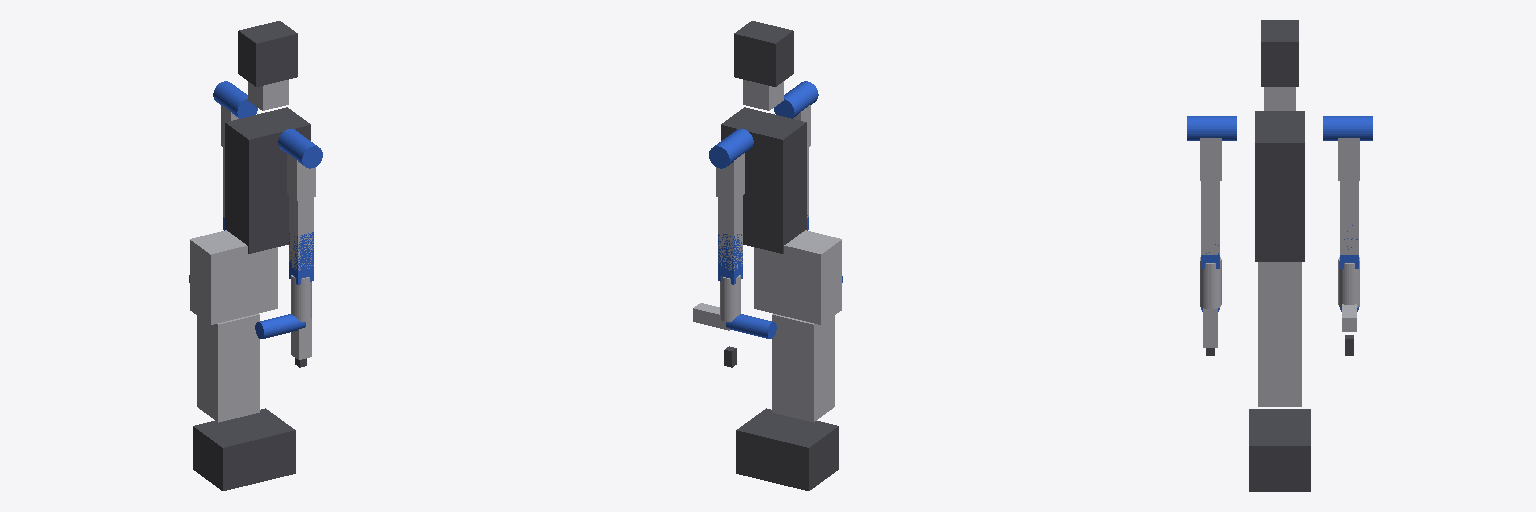
The robot description file, URDF, robot "mega_robot_1st_urdf":
<?xml version="1.0" encoding="utf-8"?>
<robot name="mega_robot_1st_urdf">
  <material name="dark_grey">
    <color rgba="0.35 0.35 0.38 1.0" />
  </material>
  <material name="light_grey">
    <color rgba="0.72 0.72 0.75 1.0" />
  </material>
  <material name="blue">
    <color rgba="0.25 0.45 0.85 1.0" />
  </material>

  <link name="base_link">
    <visual>
      <geometry>
        <box size="0.28 0.20 0.16" />
      </geometry>
      <material name="dark_grey" />
    </visual>
    <collision>
      <geometry>
        <box size="0.28 0.20 0.16" />
      </geometry>
    </collision>
  </link>

  <link name="trunk1">
    <visual>
      <origin xyz="0.06 0.0 0.18" rpy="0 0 0" />
      <geometry>
        <box size="0.16 0.14 0.36" />
      </geometry>
      <material name="light_grey" />
    </visual>
    <collision>
      <origin xyz="0.06 0.0 0.18" rpy="0 0 0" />
      <geometry>
        <box size="0.16 0.14 0.36" />
      </geometry>
    </collision>
  </link>
  <joint name="trunk_J1" type="revolute">
    <origin xyz="0 0 0.161000000045019" rpy="0 0 3.14159265358979" />
    <parent link="base_link" />
    <child link="trunk1" />
    <axis xyz="0 0 1" />
    <limit lower="-3.1416" upper="3.1416" effort="0" velocity="2.0" />
  </joint>

  <link name="trunk2">
    <visual>
      <origin xyz="-0.08 -0.08 0.0" rpy="0 0 0" />
      <geometry>
        <box size="0.26 0.26 0.14" />
      </geometry>
      <material name="light_grey" />
    </visual>
    <collision>
      <origin xyz="-0.08 -0.08 0.0" rpy="0 0 0" />
      <geometry>
        <box size="0.26 0.26 0.14" />
      </geometry>
    </collision>
  </link>
  <joint name="trunk_J2" type="revolute">
    <origin xyz="0.119999999999998 0 0.415" rpy="-1.5707963267949 0 0" />
    <parent link="trunk1" />
    <child link="trunk2" />
    <axis xyz="0 0 -1" />
    <limit lower="-3.1416" upper="3.1416" effort="0" velocity="2.0" />
  </joint>

  <link name="trunk3">
    <visual>
      <origin xyz="0.0 -0.18 0.0" rpy="0 0 0" />
      <geometry>
        <box size="0.24 0.42 0.16" />
      </geometry>
      <material name="dark_grey" />
    </visual>
    <collision>
      <origin xyz="0.0 -0.18 0.0" rpy="0 0 0" />
      <geometry>
        <box size="0.24 0.42 0.16" />
      </geometry>
    </collision>
  </link>
  <joint name="trunk_J3" type="revolute">
    <origin xyz="-0.212132034355965 -0.212132034355963 0" rpy="0 0 0" />
    <parent link="trunk2" />
    <child link="trunk3" />
    <axis xyz="0 0 1" />
    <limit lower="-3.1416" upper="3.1416" effort="0" velocity="2.0" />
  </joint>

  <link name="Right_link1">
    <visual>
      <origin xyz="0.0 0.0 0.08" rpy="0 0 0" />
      <geometry>
        <cylinder length="0.16" radius="0.04" />
      </geometry>
      <material name="blue" />
    </visual>
    <collision>
      <origin xyz="0.0 0.0 0.08" rpy="0 0 0" />
      <geometry>
        <cylinder length="0.16" radius="0.04" />
      </geometry>
    </collision>
  </link>
  <joint name="Right_J1" type="revolute">
    <origin xyz="0 -0.384999999999999 0.136199999954927" rpy="0 0 0" />
    <parent link="trunk3" />
    <child link="Right_link1" />
    <axis xyz="0 0 1" />
    <limit lower="-2.8797" upper="2.8797" effort="0" velocity="2.0" />
  </joint>

  <link name="Right_link2">
    <visual>
      <origin xyz="0.0 -0.08 0.0" rpy="0 0 0" />
      <geometry>
        <box size="0.07 0.18 0.07" />
      </geometry>
      <material name="light_grey" />
    </visual>
    <collision>
      <origin xyz="0.0 -0.08 0.0" rpy="0 0 0" />
      <geometry>
        <box size="0.07 0.18 0.07" />
      </geometry>
    </collision>
  </link>
  <joint name="Right_J2" type="revolute">
    <origin xyz="0 0 0.0846" rpy="3.14159265358979 1.5707963267949 0" />
    <parent link="Right_link1" />
    <child link="Right_link2" />
    <axis xyz="0 0 1" />
    <limit lower="-1.9198" upper="0.08" effort="0" velocity="2.0" />
  </joint>

  <link name="Right_link3">
    <visual>
      <origin xyz="0.0 0.0 -0.145" rpy="0 0 0" />
      <geometry>
        <box size="0.06 0.06 0.29" />
      </geometry>
      <material name="light_grey" />
    </visual>
    <collision>
      <origin xyz="0.0 0.0 -0.145" rpy="0 0 0" />
      <geometry>
        <box size="0.06 0.06 0.29" />
      </geometry>
    </collision>
  </link>
  <joint name="Right_J3" type="revolute">
    <origin xyz="0 -0.141000000042135 0" rpy="-1.5707963267949 0 0" />
    <parent link="Right_link2" />
    <child link="Right_link3" />
    <axis xyz="0 0 -1" />
    <limit lower="-2.8797" upper="2.8797" effort="0" velocity="2.0" />
  </joint>

  <link name="Right_link4">
    <visual>
      <origin xyz="0.0 0.07 0.0" rpy="0 0 0" />
      <geometry>
        <box size="0.06 0.18 0.06" />
      </geometry>
      <material name="blue" />
    </visual>
    <collision>
      <origin xyz="0.0 0.07 0.0" rpy="0 0 0" />
      <geometry>
        <box size="0.06 0.18 0.06" />
      </geometry>
    </collision>
  </link>
  <joint name="Right_J4" type="revolute">
    <origin xyz="0 0 -0.178999999999999" rpy="-1.5707963267949 0 -1.5707963267949" />
    <parent link="Right_link3" />
    <child link="Right_link4" />
    <axis xyz="0 0 -1" />
    <limit lower="-0.8753" upper="2.0943" effort="0" velocity="2.0" />
  </joint>

  <link name="Right_link5">
    <visual>
      <origin xyz="0.0 0.0 0.08" rpy="0 0 0" />
      <geometry>
        <cylinder length="0.16" radius="0.035" />
      </geometry>
      <material name="light_grey" />
    </visual>
    <collision>
      <origin xyz="0.0 0.0 0.08" rpy="0 0 0" />
      <geometry>
        <cylinder length="0.16" radius="0.035" />
      </geometry>
    </collision>
  </link>
  <joint name="Right_J5" type="revolute">
    <origin xyz="0 0.140000235405189 0" rpy="-1.5707963267949 0 0" />
    <parent link="Right_link4" />
    <child link="Right_link5" />
    <axis xyz="0 0 1" />
    <limit lower="-2.8797" upper="2.8797" effort="0" velocity="2.0" />
  </joint>

  <link name="Right_link6">
    <visual>
      <origin xyz="0.0 0.0 0.08" rpy="0 0 0" />
      <geometry>
        <cylinder length="0.16" radius="0.03" />
      </geometry>
      <material name="blue" />
    </visual>
    <collision>
      <origin xyz="0.0 0.0 0.08" rpy="0 0 0" />
      <geometry>
        <cylinder length="0.16" radius="0.03" />
      </geometry>
    </collision>
  </link>
  <joint name="Right_J6" type="revolute">
    <origin xyz="0 0 0.17" rpy="-1.5707963267949 0 1.5707963267949" />
    <parent link="Right_link5" />
    <child link="Right_link6" />
    <axis xyz="0 0 -1" />
    <limit lower="-0.6981" upper="0.6981" effort="0" velocity="2.0" />
  </joint>

  <link name="Right_link7">
    <visual>
      <origin xyz="0.06 0.0 0.0" rpy="0 0 0" />
      <geometry>
        <box size="0.14 0.05 0.05" />
      </geometry>
      <material name="light_grey" />
    </visual>
    <collision>
      <origin xyz="0.06 0.0 0.0" rpy="0 0 0" />
      <geometry>
        <box size="0.14 0.05 0.05" />
      </geometry>
    </collision>
  </link>
  <joint name="Right_J7" type="revolute">
    <origin xyz="0 0 0" rpy="1.5707963267949 0 -1.5707963267949" />
    <parent link="Right_link6" />
    <child link="Right_link7" />
    <axis xyz="0 0 -1" />
    <limit lower="-0.6981" upper="0.6981" effort="0" velocity="2.0" />
  </joint>

  <link name="rhand">
    <visual>
      <origin xyz="0.03 0 0" rpy="0 0 0" />
      <geometry>
        <box size="0.06 0.03 0.03" />
      </geometry>
      <material name="dark_grey" />
    </visual>
    <collision>
      <origin xyz="0.03 0 0" rpy="0 0 0" />
      <geometry>
        <box size="0.06 0.03 0.03" />
      </geometry>
    </collision>
  </link>
  <joint name="rfix_joint" type="fixed">
    <origin xyz="0.1041 0 0" rpy="0 0 0" />
    <parent link="Right_link7" />
    <child link="rhand" />
  </joint>

  <link name="Left_link1">
    <visual>
      <origin xyz="0.0 0.0 0.08" rpy="0 0 0" />
      <geometry>
        <cylinder length="0.16" radius="0.04" />
      </geometry>
      <material name="blue" />
    </visual>
    <collision>
      <origin xyz="0.0 0.0 0.08" rpy="0 0 0" />
      <geometry>
        <cylinder length="0.16" radius="0.04" />
      </geometry>
    </collision>
  </link>
  <joint name="Left_J1" type="revolute">
    <origin xyz="0 -0.384999999999999 -0.136199999954923" rpy="-3.14159265358979 0 0" />
    <parent link="trunk3" />
    <child link="Left_link1" />
    <axis xyz="0 0 1" />
    <limit lower="-2.8797" upper="2.8797" effort="0" velocity="2.0" />
  </joint>

  <link name="Left_link2">
    <visual>
      <origin xyz="0.0 0.08 0.0" rpy="0 0 0" />
      <geometry>
        <box size="0.07 0.18 0.07" />
      </geometry>
      <material name="light_grey" />
    </visual>
    <collision>
      <origin xyz="0.0 0.08 0.0" rpy="0 0 0" />
      <geometry>
        <box size="0.07 0.18 0.07" />
      </geometry>
    </collision>
  </link>
  <joint name="Left_J2" type="revolute">
    <origin xyz="0 0 0.0846000000000572" rpy="3.14159265358979 1.5707963267949 0" />
    <parent link="Left_link1" />
    <child link="Left_link2" />
    <axis xyz="0 0 1" />
    <limit lower="-0.08" upper="1.9198" effort="0" velocity="2.0" />
  </joint>

  <link name="Left_link3">
    <visual>
      <origin xyz="0.0 0.0 -0.145" rpy="0 0 0" />
      <geometry>
        <box size="0.06 0.06 0.29" />
      </geometry>
      <material name="light_grey" />
    </visual>
    <collision>
      <origin xyz="0.0 0.0 -0.145" rpy="0 0 0" />
      <geometry>
        <box size="0.06 0.06 0.29" />
      </geometry>
    </collision>
  </link>
  <joint name="Left_J3" type="revolute">
    <origin xyz="0 0.141000000042135 0" rpy="-1.5707963267949 0 3.14159265358979" />
    <parent link="Left_link2" />
    <child link="Left_link3" />
    <axis xyz="0 0 -1" />
    <limit lower="-2.8797" upper="2.8797" effort="0" velocity="2.0" />
  </joint>

  <link name="Left_link4">
    <visual>
      <origin xyz="0.0 -0.07 0.0" rpy="0 0 0" />
      <geometry>
        <box size="0.06 0.18 0.06" />
      </geometry>
      <material name="blue" />
    </visual>
    <collision>
      <origin xyz="0.0 -0.07 0.0" rpy="0 0 0" />
      <geometry>
        <box size="0.06 0.18 0.06" />
      </geometry>
    </collision>
  </link>
  <joint name="Left_J4" type="revolute">
    <origin xyz="0 0 -0.178999999999999" rpy="1.5707963267949 0 -1.5707963267949" />
    <parent link="Left_link3" />
    <child link="Left_link4" />
    <axis xyz="0 0 -1" />
    <limit lower="-2.0943" upper="0.8753" effort="0" velocity="2.0" />
  </joint>

  <link name="Left_link5">
    <visual>
      <origin xyz="0.0 0.0 0.08" rpy="0 0 0" />
      <geometry>
        <cylinder length="0.16" radius="0.035" />
      </geometry>
      <material name="light_grey" />
    </visual>
    <collision>
      <origin xyz="0.0 0.0 0.08" rpy="0 0 0" />
      <geometry>
        <cylinder length="0.16" radius="0.035" />
      </geometry>
    </collision>
  </link>
  <joint name="Left_J5" type="revolute">
    <origin xyz="0 -0.140000235405188 0" rpy="1.5707963267949 0 0" />
    <parent link="Left_link4" />
    <child link="Left_link5" />
    <axis xyz="0 0 1" />
    <limit lower="-2.8797" upper="2.8797" effort="0" velocity="2.0" />
  </joint>

  <link name="Left_link6">
    <visual>
      <origin xyz="0.0 0.0 0.08" rpy="0 0 0" />
      <geometry>
        <cylinder length="0.16" radius="0.03" />
      </geometry>
      <material name="blue" />
    </visual>
    <collision>
      <origin xyz="0.0 0.0 0.08" rpy="0 0 0" />
      <geometry>
        <cylinder length="0.16" radius="0.03" />
      </geometry>
    </collision>
  </link>
  <joint name="Left_J6" type="revolute">
    <origin xyz="0 0 0.17" rpy="-1.5707963267949 0 1.5707963267949" />
    <parent link="Left_link5" />
    <child link="Left_link6" />
    <axis xyz="0 0 -1" />
    <limit lower="-0.6981" upper="0.6981" effort="0" velocity="2.0" />
  </joint>

  <link name="Left_link7">
    <visual>
      <origin xyz="0.06 0.0 0.0" rpy="0 0 0" />
      <geometry>
        <box size="0.14 0.05 0.05" />
      </geometry>
      <material name="light_grey" />
    </visual>
    <collision>
      <origin xyz="0.06 0.0 0.0" rpy="0 0 0" />
      <geometry>
        <box size="0.14 0.05 0.05" />
      </geometry>
    </collision>
  </link>
  <joint name="Left_J7" type="revolute">
    <origin xyz="0 0 0" rpy="0 1.5707963267949 0" />
    <parent link="Left_link6" />
    <child link="Left_link7" />
    <axis xyz="0 0 -1" />
    <limit lower="-0.6981" upper="0.6981" effort="0" velocity="2.0" />
  </joint>

  <link name="lhand">
    <visual>
      <origin xyz="0.03 0 0" rpy="0 0 0" />
      <geometry>
        <box size="0.06 0.03 0.03" />
      </geometry>
      <material name="dark_grey" />
    </visual>
    <collision>
      <origin xyz="0.03 0 0" rpy="0 0 0" />
      <geometry>
        <box size="0.06 0.03 0.03" />
      </geometry>
    </collision>
  </link>
  <joint name="lfix_joint" type="fixed">
    <origin xyz="0 -0.1041 0" rpy="3.1416 0 -1.5708" />
    <parent link="Left_link7" />
    <child link="lhand" />
  </joint>

  <link name="Head1">
    <visual>
      <origin xyz="0 0 0.10" rpy="0 0 0" />
      <geometry>
        <box size="0.10 0.10 0.20" />
      </geometry>
      <material name="light_grey" />
    </visual>
    <collision>
      <origin xyz="0 0 0.10" rpy="0 0 0" />
      <geometry>
        <box size="0.10 0.10 0.20" />
      </geometry>
    </collision>
  </link>
  <joint name="Head_J1" type="revolute">
    <origin xyz="0 -0.467500000000006 0" rpy="1.5707963267949 0 0" />
    <parent link="trunk3" />
    <child link="Head1" />
    <axis xyz="0 0 1" />
    <limit lower="-3.1416" upper="3.1416" effort="0" velocity="2.0" />
  </joint>

  <link name="Head2">
    <visual>
      <origin xyz="0.0 0.05 0.0" rpy="0 0 0" />
      <geometry>
        <box size="0.16 0.16 0.12" />
      </geometry>
      <material name="dark_grey" />
    </visual>
    <collision>
      <origin xyz="0.0 0.05 0.0" rpy="0 0 0" />
      <geometry>
        <box size="0.16 0.16 0.12" />
      </geometry>
    </collision>
  </link>
  <joint name="Head_J2" type="revolute">
    <origin xyz="0 0 0.128500000000001" rpy="1.5707963267949 0 0" />
    <parent link="Head1" />
    <child link="Head2" />
    <axis xyz="0 0 1" />
    <limit lower="-3.1416" upper="3.1416" effort="0" velocity="2.0" />
  </joint>
</robot>

--- Facts derived from the render (not from the file) ---
Views: 3 orthographic renders of the robot side by side, from view 1: azimuth 30°, elevation 25°; view 2: azimuth 150°, elevation 25°; view 3: azimuth 270°, elevation 25°.
Robot: mega_robot_1st_urdf — 22 links, 21 joints (19 revolute, 2 fixed); root link base_link; default pose: all joints at 0.
Visible links, largest first — view 1: trunk3, trunk2, base_link, trunk1, Head2, Right_link3, Right_link1, Right_link2, Left_link1, Head1, Right_link5, Right_link6 (+2 smaller); view 2: trunk3, trunk2, base_link, trunk1, Head2, Left_link3, Left_link1, Left_link2, Head1, Right_link1, Left_link5, Left_link6 (+2 smaller); view 3: trunk3, base_link, trunk1, Head2, trunk2, Right_link3, Left_link3, Right_link1, Left_link1, Right_link5, Right_link2, Left_link2 (+3 smaller).
Link boxes in pixels (x1,y1,x2,y2): trunk3: [225, 107, 310, 253]; trunk2: [190, 230, 277, 324]; base_link: [193, 408, 295, 490]; trunk1: [197, 314, 259, 422]; Head2: [238, 21, 297, 86]; Right_link3: [289, 196, 313, 270]; Right_link1: [278, 129, 322, 168]; Right_link2: [287, 153, 315, 200]; Left_link1: [213, 81, 257, 118]; Head1: [248, 80, 288, 110]; Right_link5: [291, 275, 311, 321]; Right_link6: [255, 314, 305, 338]; trunk3: [721, 107, 806, 253]; trunk2: [754, 230, 841, 324]; base_link: [736, 408, 838, 490]; trunk1: [772, 314, 834, 422]; Head2: [734, 21, 793, 86]; Left_link3: [718, 196, 742, 270]; Left_link1: [709, 129, 753, 168]; Left_link2: [716, 153, 744, 200]; Head1: [743, 80, 783, 110]; Right_link1: [774, 81, 818, 118]; Left_link5: [720, 275, 740, 321]; Left_link6: [726, 314, 776, 338]; trunk3: [1255, 111, 1304, 261]; base_link: [1249, 409, 1310, 491]; trunk1: [1258, 312, 1301, 406]; Head2: [1261, 20, 1298, 86]; trunk2: [1258, 262, 1301, 311]; Right_link3: [1201, 181, 1219, 254]; Left_link3: [1340, 181, 1358, 254]; Right_link1: [1187, 116, 1236, 140]; Left_link1: [1323, 116, 1372, 140]; Right_link5: [1200, 257, 1221, 308]; Right_link2: [1200, 138, 1221, 180]; Left_link2: [1338, 138, 1359, 180].
Bounding box of the posed robot: 0.3921 × 0.5924 × 1.59 m (x, y, z).
Geometry: primitives only (box / cylinder / sphere), no mesh files.
